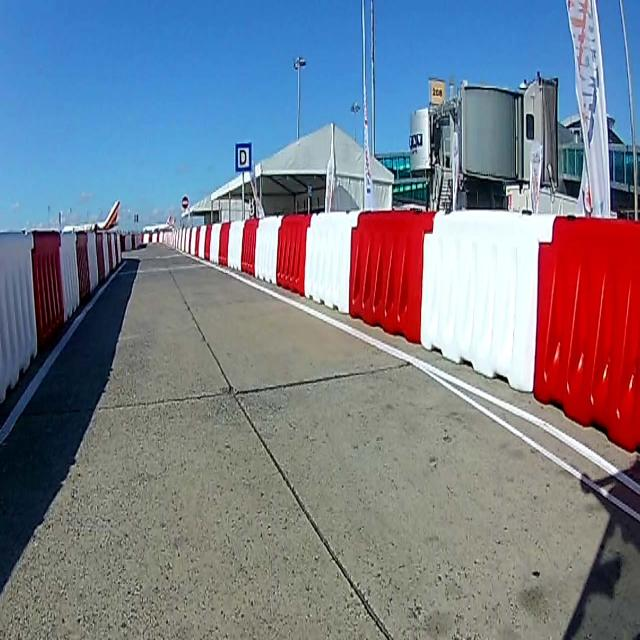durak: (234, 142, 252, 172)
girisyok: (180, 193, 190, 212)
